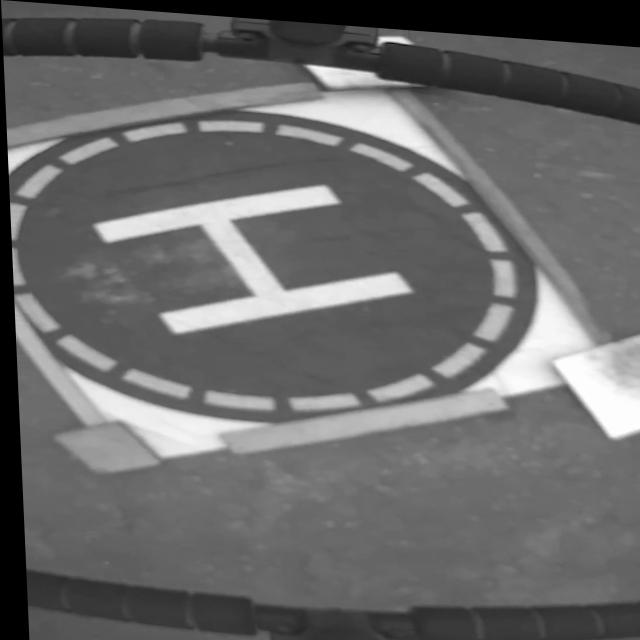Helipad: (87, 181, 412, 333)
